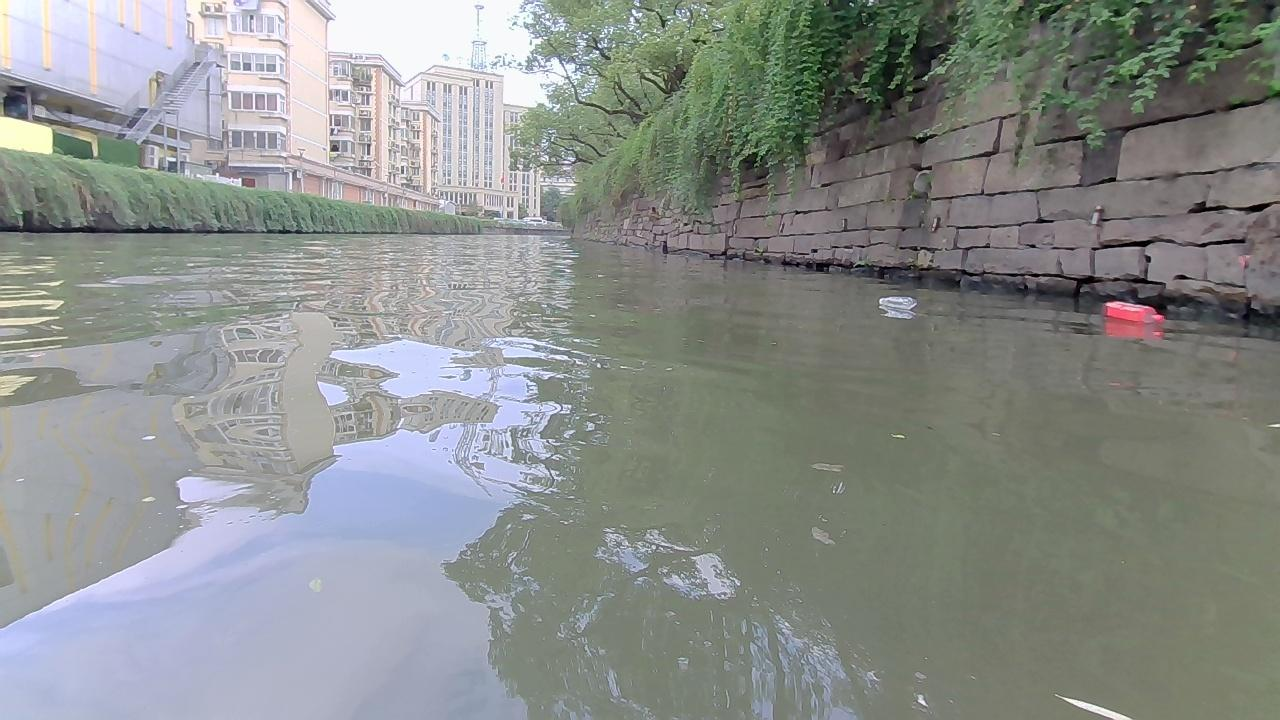bottle: (1101, 299, 1163, 321), (877, 295, 915, 309)
